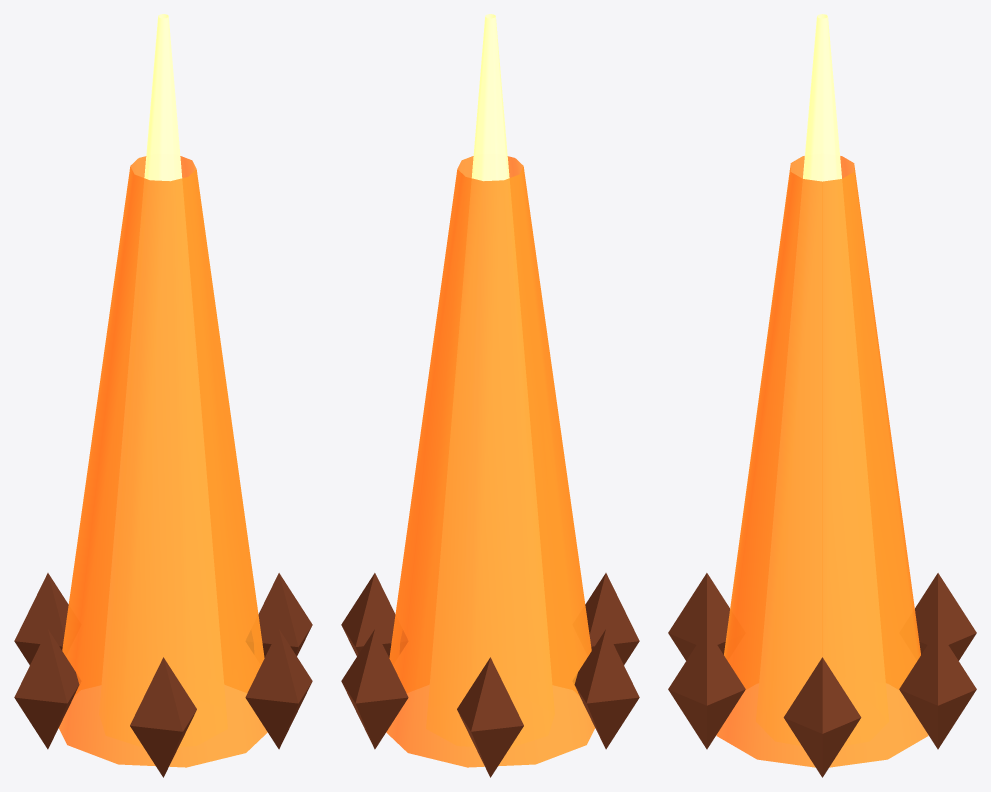
The model's file is fx_r_erupt.glb.
3 views of the same model, side by side, from view 1: azimuth 30°, elevation 25°; view 2: azimuth 150°, elevation 25°; view 3: azimuth 270°, elevation 25° (orthographic).
Parts seen in each view (by area): view 1: fx_r_erupt_lava, fx_r_erupt_rockg, fx_r_erupt_core; view 2: fx_r_erupt_lava, fx_r_erupt_rockg, fx_r_erupt_core; view 3: fx_r_erupt_lava, fx_r_erupt_rockg, fx_r_erupt_core.
Part boxes in pixels (left/top/right/bottom): fx_r_erupt_lava: left=59, top=156, right=267, bottom=767; fx_r_erupt_rockg: left=14, top=573, right=312, bottom=777; fx_r_erupt_core: left=144, top=14, right=182, bottom=181; fx_r_erupt_lava: left=386, top=156, right=594, bottom=767; fx_r_erupt_rockg: left=341, top=573, right=639, bottom=777; fx_r_erupt_core: left=471, top=14, right=509, bottom=181; fx_r_erupt_lava: left=716, top=156, right=928, bottom=767; fx_r_erupt_rockg: left=668, top=573, right=976, bottom=777; fx_r_erupt_core: left=803, top=14, right=841, bottom=181.
Bounding box in the file's own units: 3.1 × 7 × 2.78.
